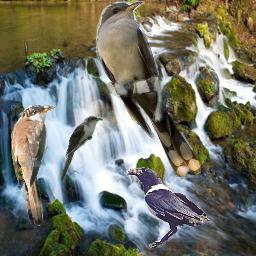Crow: (126, 167, 213, 248)
Cuckoo: (96, 1, 201, 177), (11, 105, 55, 226), (59, 115, 103, 181)
